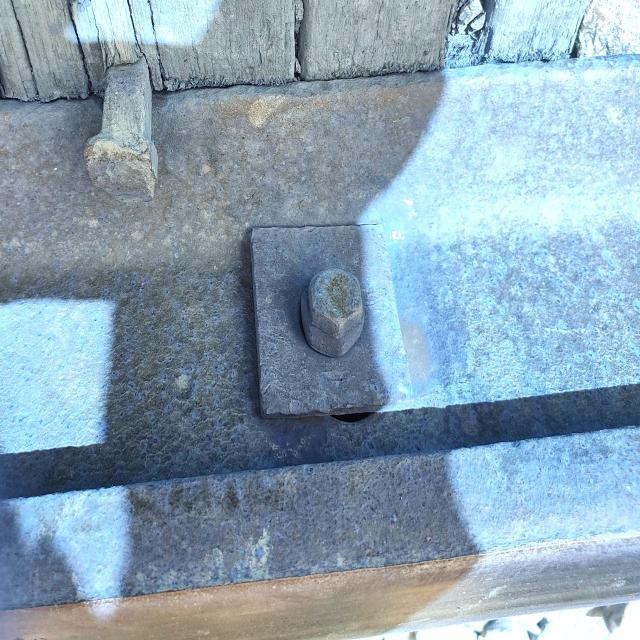Good Fasteners: (84, 59, 158, 202)
